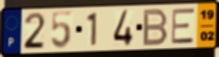1: (85, 11, 100, 47)
2: (23, 12, 47, 51)
4: (112, 8, 135, 48)
5: (50, 10, 75, 51)
B: (141, 7, 170, 48)
E: (170, 6, 196, 45)
